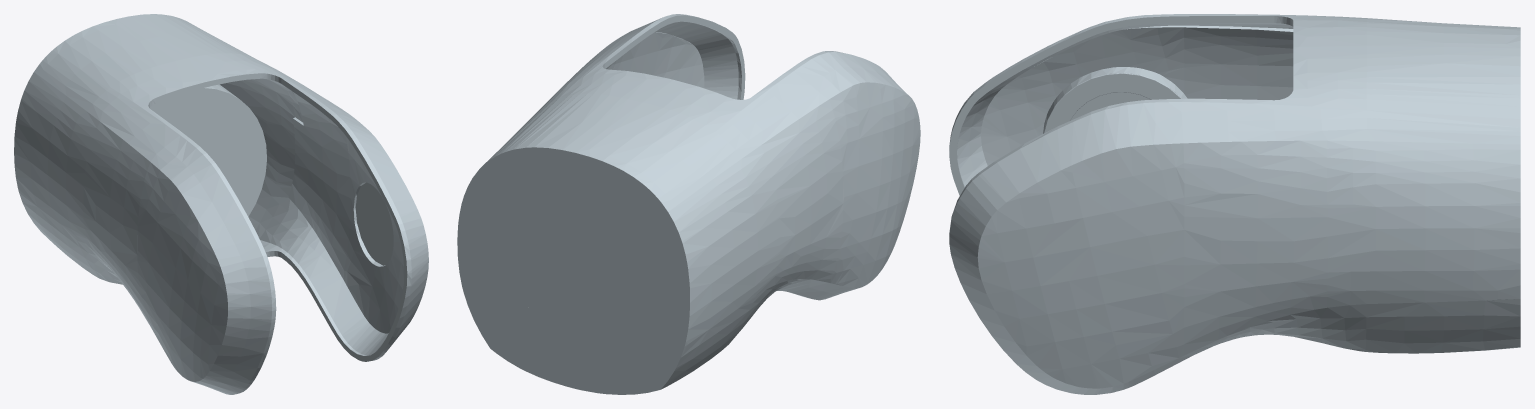
File: left_shoulder_roll_link.dae
3 renders of one model, left to right at view 1: azimuth 30°, elevation 25°; view 2: azimuth 150°, elevation 25°; view 3: azimuth 270°, elevation 25°, orthographic. The views are drawn at different scales.
Visible parts, largest first — view 1: left_shoulder_roll_link; view 2: left_shoulder_roll_link; view 3: left_shoulder_roll_link.
Part boxes in pixels (x1,y1,x2,y2): left_shoulder_roll_link: (14, 14, 428, 394); left_shoulder_roll_link: (457, 14, 920, 394); left_shoulder_roll_link: (949, 14, 1520, 394).
Size of the model in its own units: 0.0862 by 0.0871 by 0.1491.
